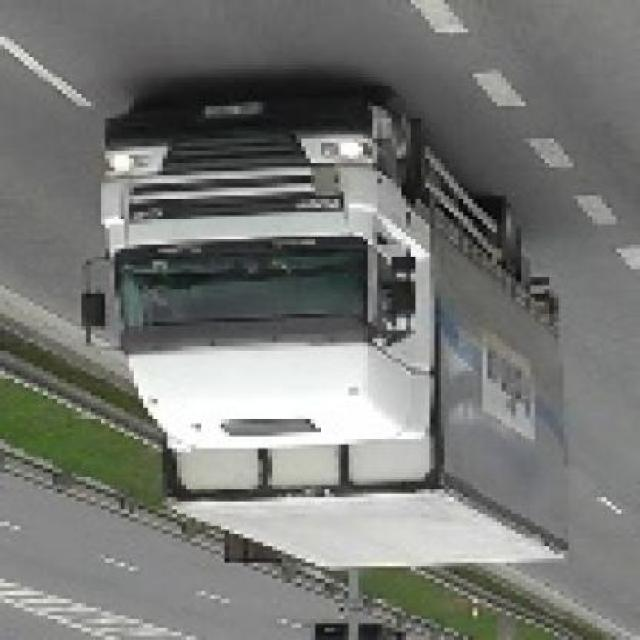truck: (73, 99, 570, 573)
